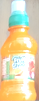orange: (1, 1, 37, 101)
